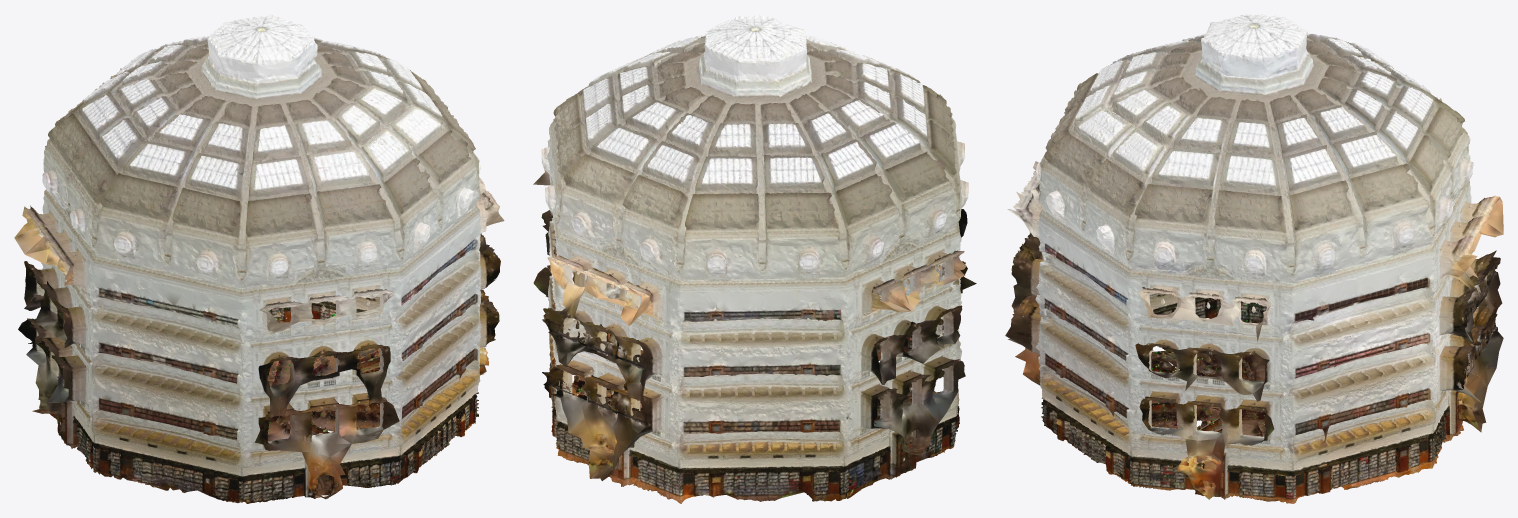
The model's file is captured.glb.
3 views of the same model, side by side, from view 1: azimuth 30°, elevation 25°; view 2: azimuth 150°, elevation 25°; view 3: azimuth 270°, elevation 25° (orthographic).
Parts seen in each view (by area): view 1: Object_3, Object_17, Object_12; view 2: Object_3, Object_17, Object_12; view 3: Object_3, Object_17, Object_12.
Part boxes in pixels (x1,y1,x2,y2): Object_3: (14, 14, 499, 503); Object_17: (14, 27, 504, 503); Object_12: (24, 22, 499, 502); Object_3: (533, 14, 968, 503); Object_17: (541, 31, 976, 503); Object_12: (542, 16, 967, 501); Object_3: (1008, 14, 1503, 502); Object_17: (1005, 19, 1503, 503); Object_12: (1013, 24, 1497, 502).
Bounding box in the file's own units: 39.3 × 34.82 × 39.79.
5 materials, 5 textured.
